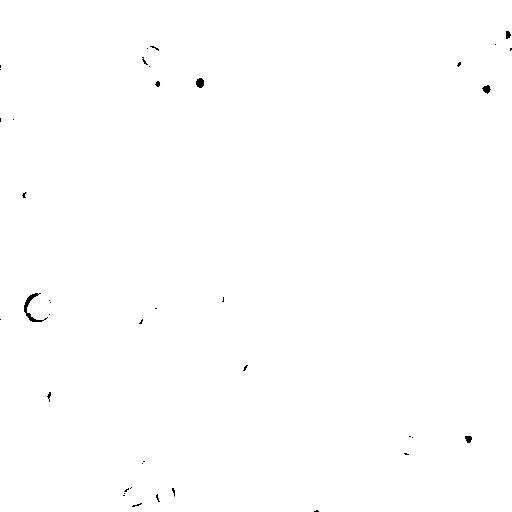micro-algae: (419, 384, 503, 466), (308, 387, 363, 445), (447, 414, 482, 451), (183, 61, 216, 94), (143, 69, 175, 103), (187, 9, 220, 39), (20, 291, 53, 321), (444, 47, 473, 81), (268, 170, 301, 199), (468, 73, 499, 102), (419, 0, 451, 27), (487, 13, 511, 47), (144, 395, 175, 419), (377, 323, 404, 350), (295, 317, 317, 347), (44, 383, 70, 408), (409, 495, 447, 512), (226, 43, 247, 73), (121, 484, 147, 507), (222, 289, 244, 316), (495, 32, 511, 69), (18, 156, 41, 181), (475, 350, 498, 375), (392, 434, 417, 457), (121, 69, 147, 91), (142, 43, 163, 69), (52, 415, 73, 441), (240, 360, 263, 383), (261, 290, 283, 314), (273, 467, 295, 491), (143, 293, 167, 315), (155, 481, 177, 505), (239, 138, 264, 159), (193, 92, 216, 114), (370, 172, 392, 195), (124, 333, 147, 355), (362, 206, 383, 229), (138, 455, 161, 476), (121, 363, 147, 381), (301, 496, 326, 511), (129, 307, 145, 327), (1, 108, 17, 126), (21, 187, 37, 201), (144, 503, 161, 511)
